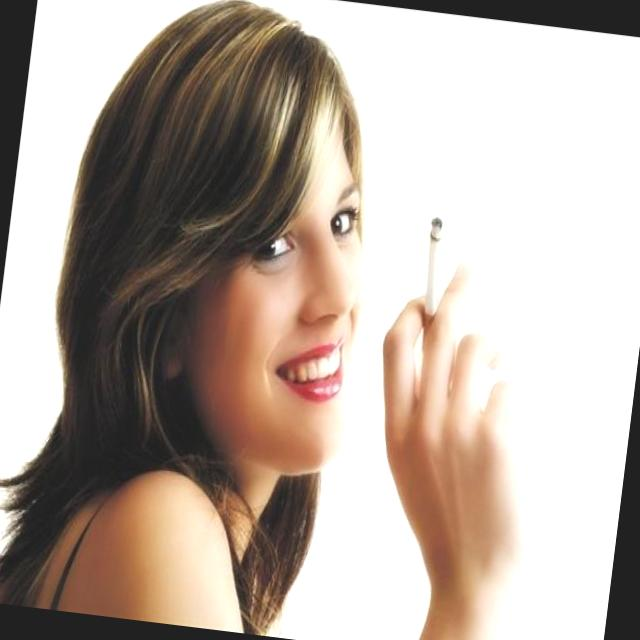cigarette: (399, 203, 460, 362)
